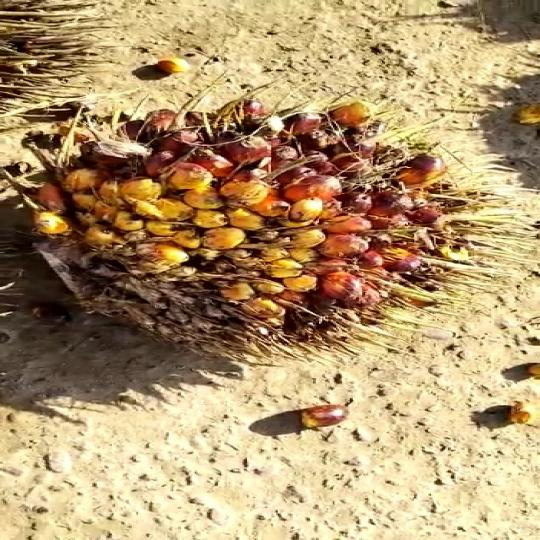masak: (0, 93, 508, 366)
